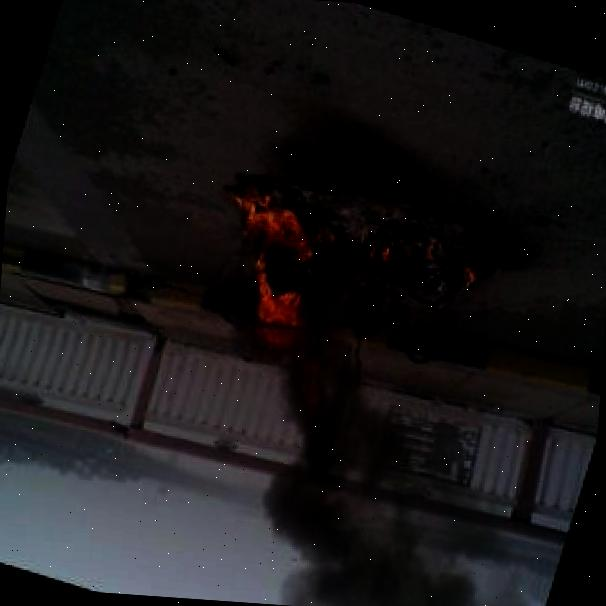fire: (187, 161, 506, 429)
smoke: (192, 270, 606, 606)
